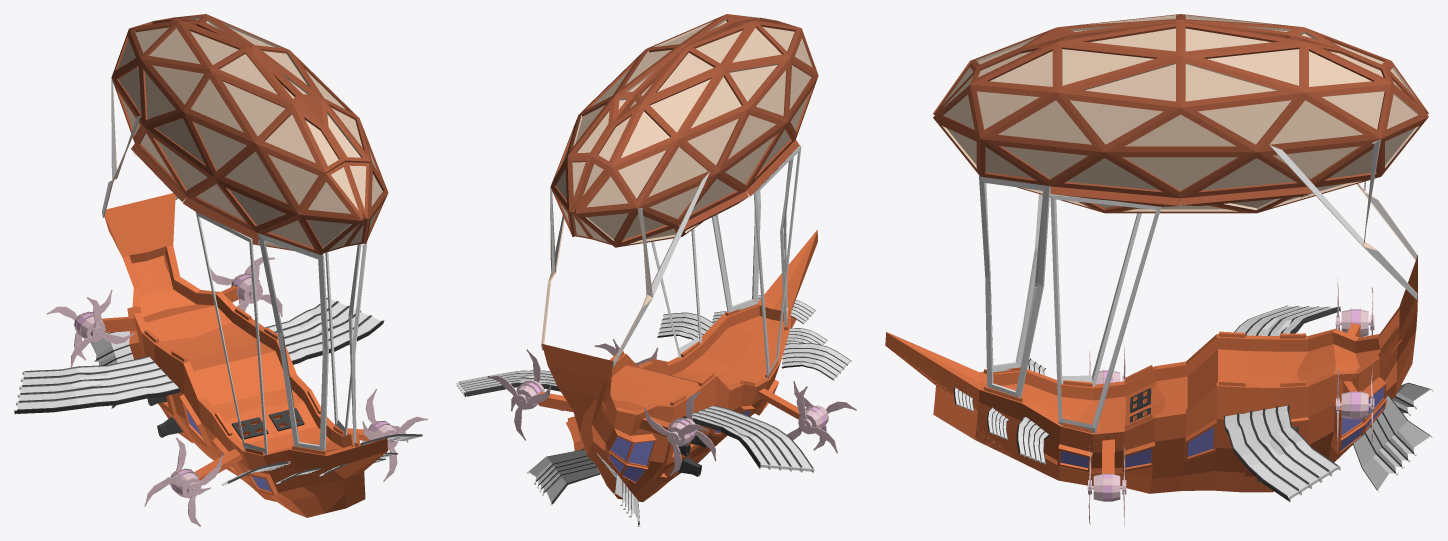
Rendered from Ship model.fbx.
3 views of the same model, side by side, from view 1: azimuth 30°, elevation 25°; view 2: azimuth 150°, elevation 25°; view 3: azimuth 270°, elevation 25° (orthographic). The views are drawn at different scales.
Visible parts, largest first — view 1: Icosphere, Cube, Cylinder.004, Cylinder.003, Cylinder.010, Cylinder.008, Cylinder.012, Cylinder.005; view 2: Icosphere, Cube, Cylinder.004, Cylinder.007, Cylinder.006, Cylinder.009, Cylinder.003; view 3: Icosphere, Cube, Cylinder.004, Cylinder.003.
Part boxes in pixels (x1,y1,x2,y2): Icosphere: (102, 14, 388, 454); Cube: (14, 193, 422, 517); Cylinder.004: (74, 273, 262, 341); Cylinder.003: (170, 421, 398, 498); Cylinder.010: (157, 456, 222, 526); Cylinder.008: (70, 297, 134, 367); Cylinder.012: (362, 416, 427, 481); Cylinder.005: (236, 257, 282, 317); Icosphere: (541, 14, 818, 379); Cube: (456, 230, 851, 526); Cylinder.004: (514, 380, 697, 446); Cylinder.007: (644, 408, 708, 475); Cylinder.006: (487, 375, 551, 440); Cylinder.009: (787, 386, 837, 453); Cylinder.003: (798, 405, 828, 434); Icosphere: (933, 14, 1428, 433); Cube: (885, 255, 1433, 501); Cylinder.004: (1335, 308, 1370, 419); Cylinder.003: (1087, 370, 1122, 501).
Bounding box in the file's own units: 744 × 848 × 891.
